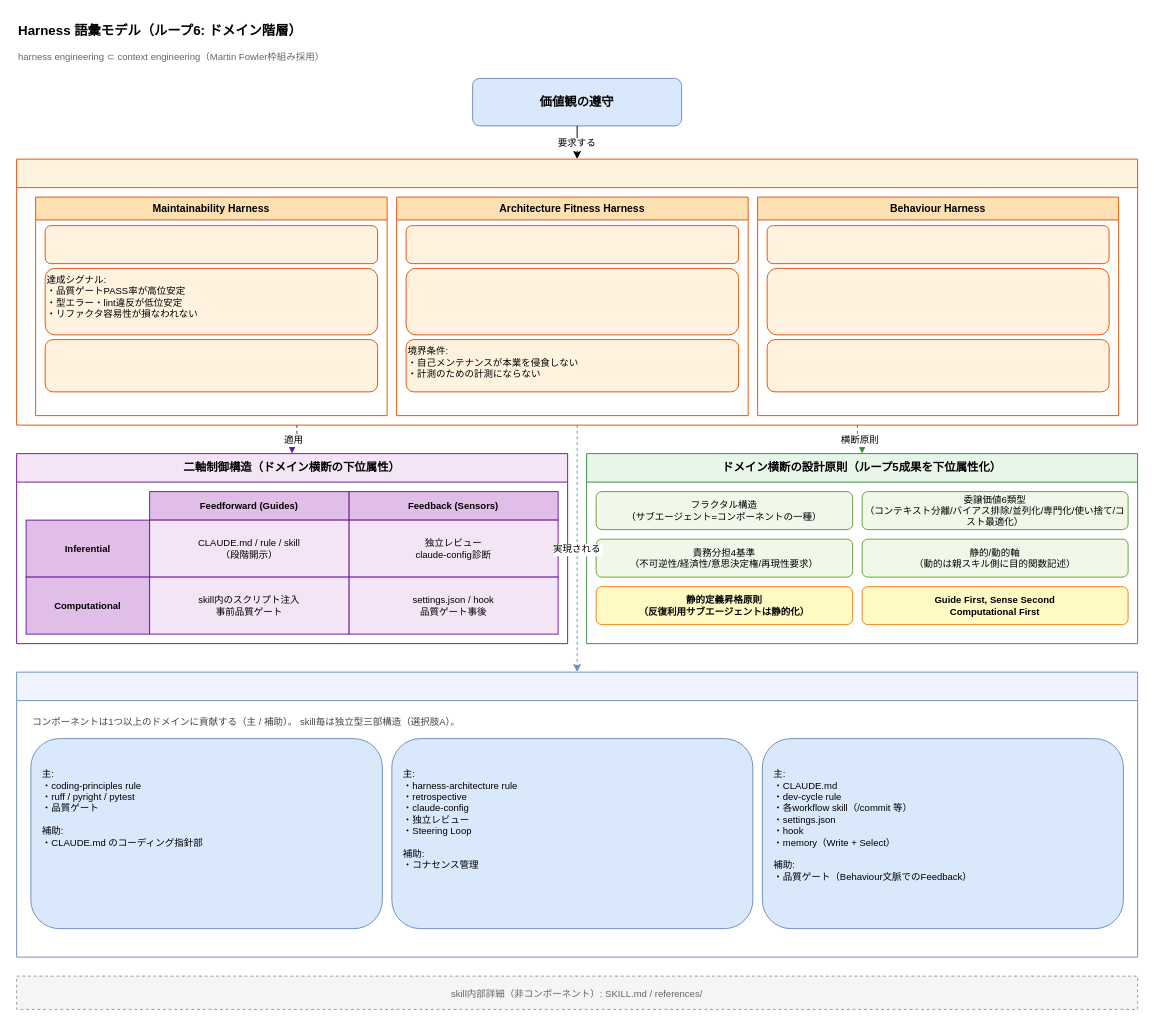
Image size: 1154x1026. Some labels were removed from this diagram. Each missing label, with the box of its shape:
Architecture Fitness 主実装: (391, 738, 753, 929)
Behaviour 主実装: (761, 738, 1123, 929)
Maintainability 主実装: (30, 738, 382, 929)
コンポーネント層（実装軸 / ドメインの実装手段）: (16, 671, 1138, 957)
ドメイン層（責務軸 / 目的関数を持つ）: (16, 158, 1138, 425)
境界条件: ・過剰自動修正で意図を歪めない ・偽陽性で開発を止めない: (44, 339, 378, 392)
境界条件: ・過剰規則化で表現を硬直化させない ・常時必要な指示をrulesに退避しない: (766, 339, 1109, 392)
最大化価値: harness自身の劣化を検出・修正し続ける: (405, 225, 739, 264)
最大化価値: ユーザー価値観に沿った自律行動を少ない指示で実現: (766, 225, 1109, 264)
最大化価値: 生成コードが長期保守可能な状態を維持: (44, 225, 378, 264)
達成シグナル: ・Harness劣化シグナルがSteering Loopで回収 ・未解決の逸脱が蓄積しない ・ドメインモデルと実装の乖離が小さい: (405, 267, 739, 335)
達成シグナル: ・ユーザー修正指示の反復がない ・Feedforwardで自己抑制が効く ・Feedbackで逸脱が検出される: (766, 267, 1109, 335)
